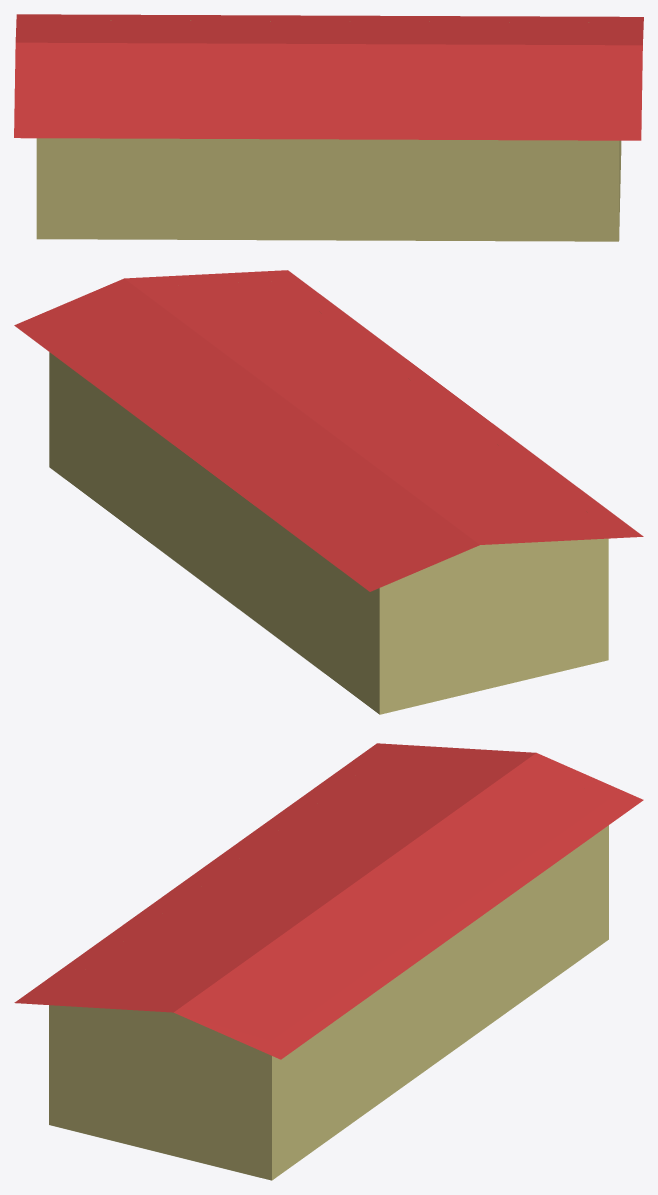
The picture shows the model from 3 angles, top to bottom: view 1: azimuth 30°, elevation 25°; view 2: azimuth 150°, elevation 25°; view 3: azimuth 270°, elevation 25°; orthographic projection. The views are drawn at different scales.
Bounding box in the file's own units: 45.46 × 37.08 × 10.13.
